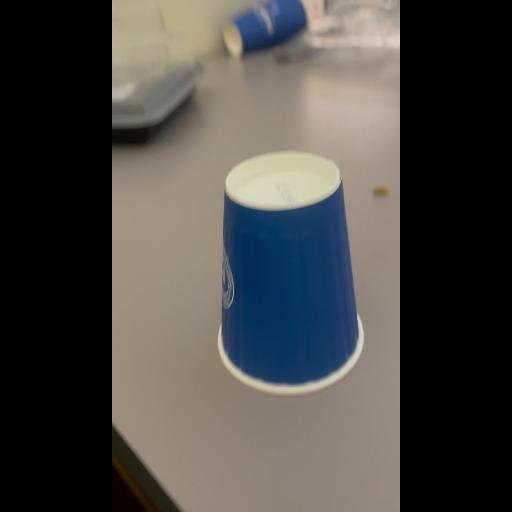lp_paper_cup: (216, 148, 366, 402)
